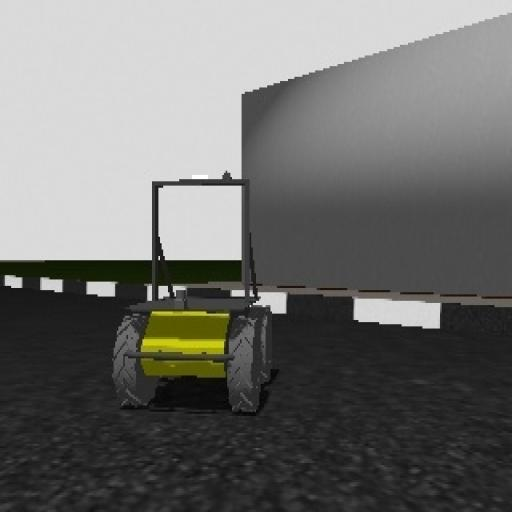huskya200: (98, 164, 288, 417)
